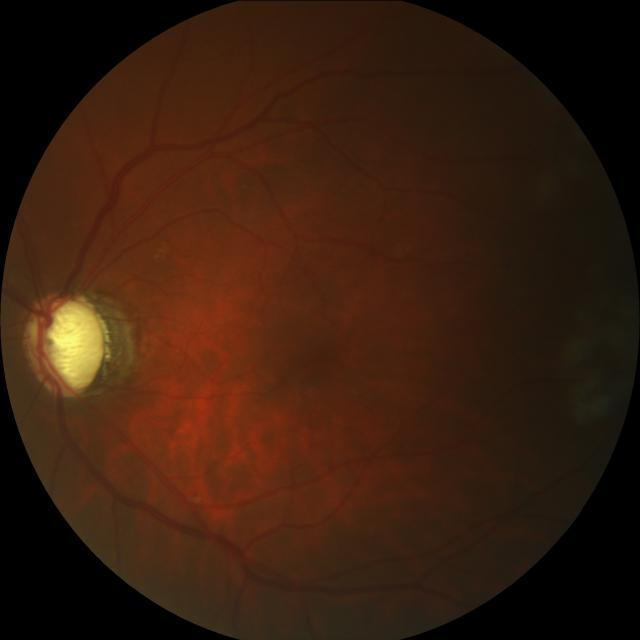OC: (40, 298, 104, 388)
OD: (25, 294, 105, 392)
